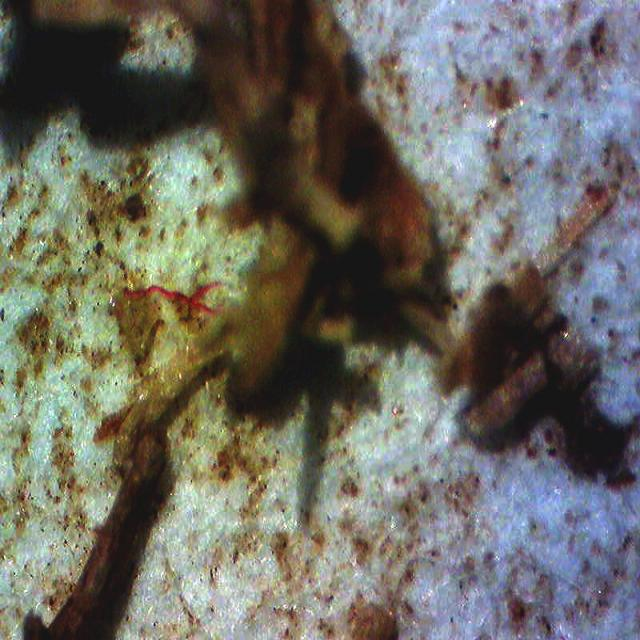microplastic: (122, 281, 232, 313)
